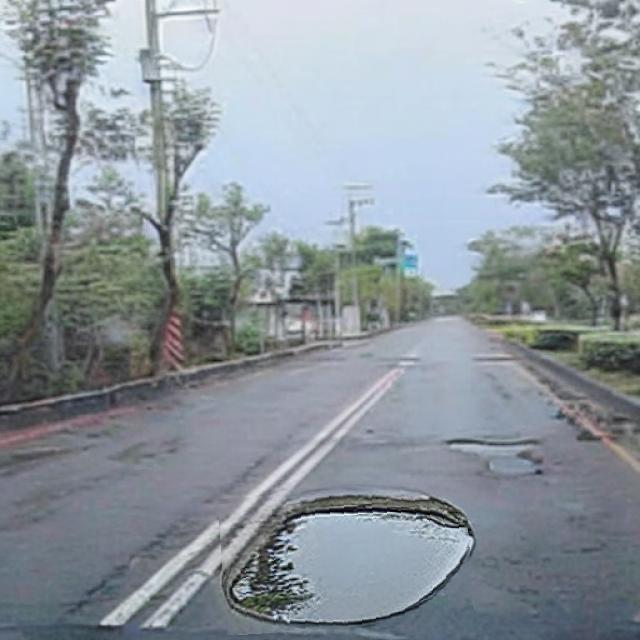puddle: (221, 487, 473, 632)
